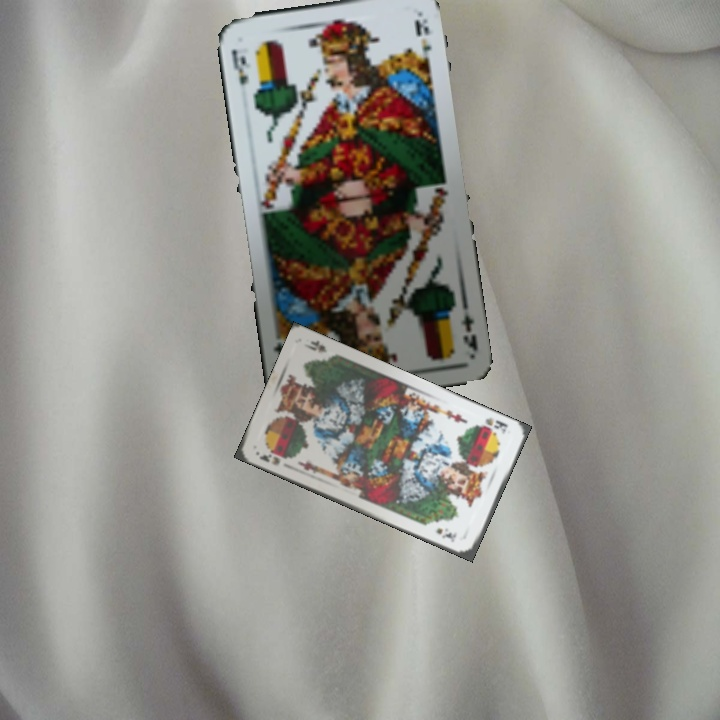EK: (457, 298, 481, 353), (227, 45, 253, 88)
SK: (481, 413, 510, 436), (255, 450, 282, 468)
